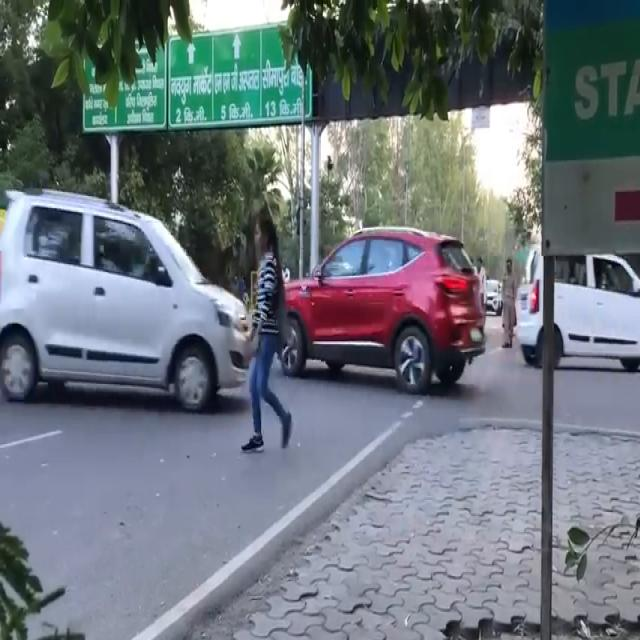SED: (517, 240, 640, 372)
SUV: (4, 183, 252, 415), (284, 230, 486, 394)
